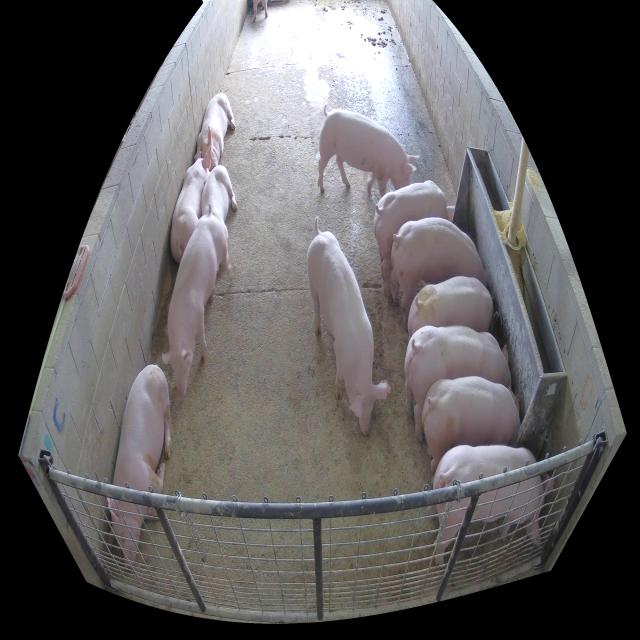pig: (307, 216, 391, 437), (425, 444, 555, 568), (162, 204, 235, 398), (106, 366, 172, 569), (405, 328, 512, 444), (390, 216, 487, 332), (422, 377, 522, 489), (317, 103, 420, 199), (372, 182, 455, 298), (408, 275, 499, 342), (170, 147, 211, 264), (198, 93, 236, 170), (201, 165, 237, 245)
